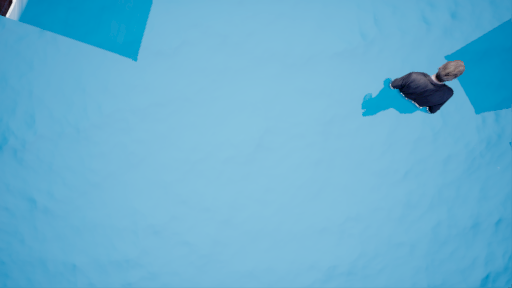person: (362, 64, 455, 125)
